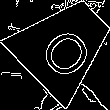O_NE: (32, 12, 97, 78)
